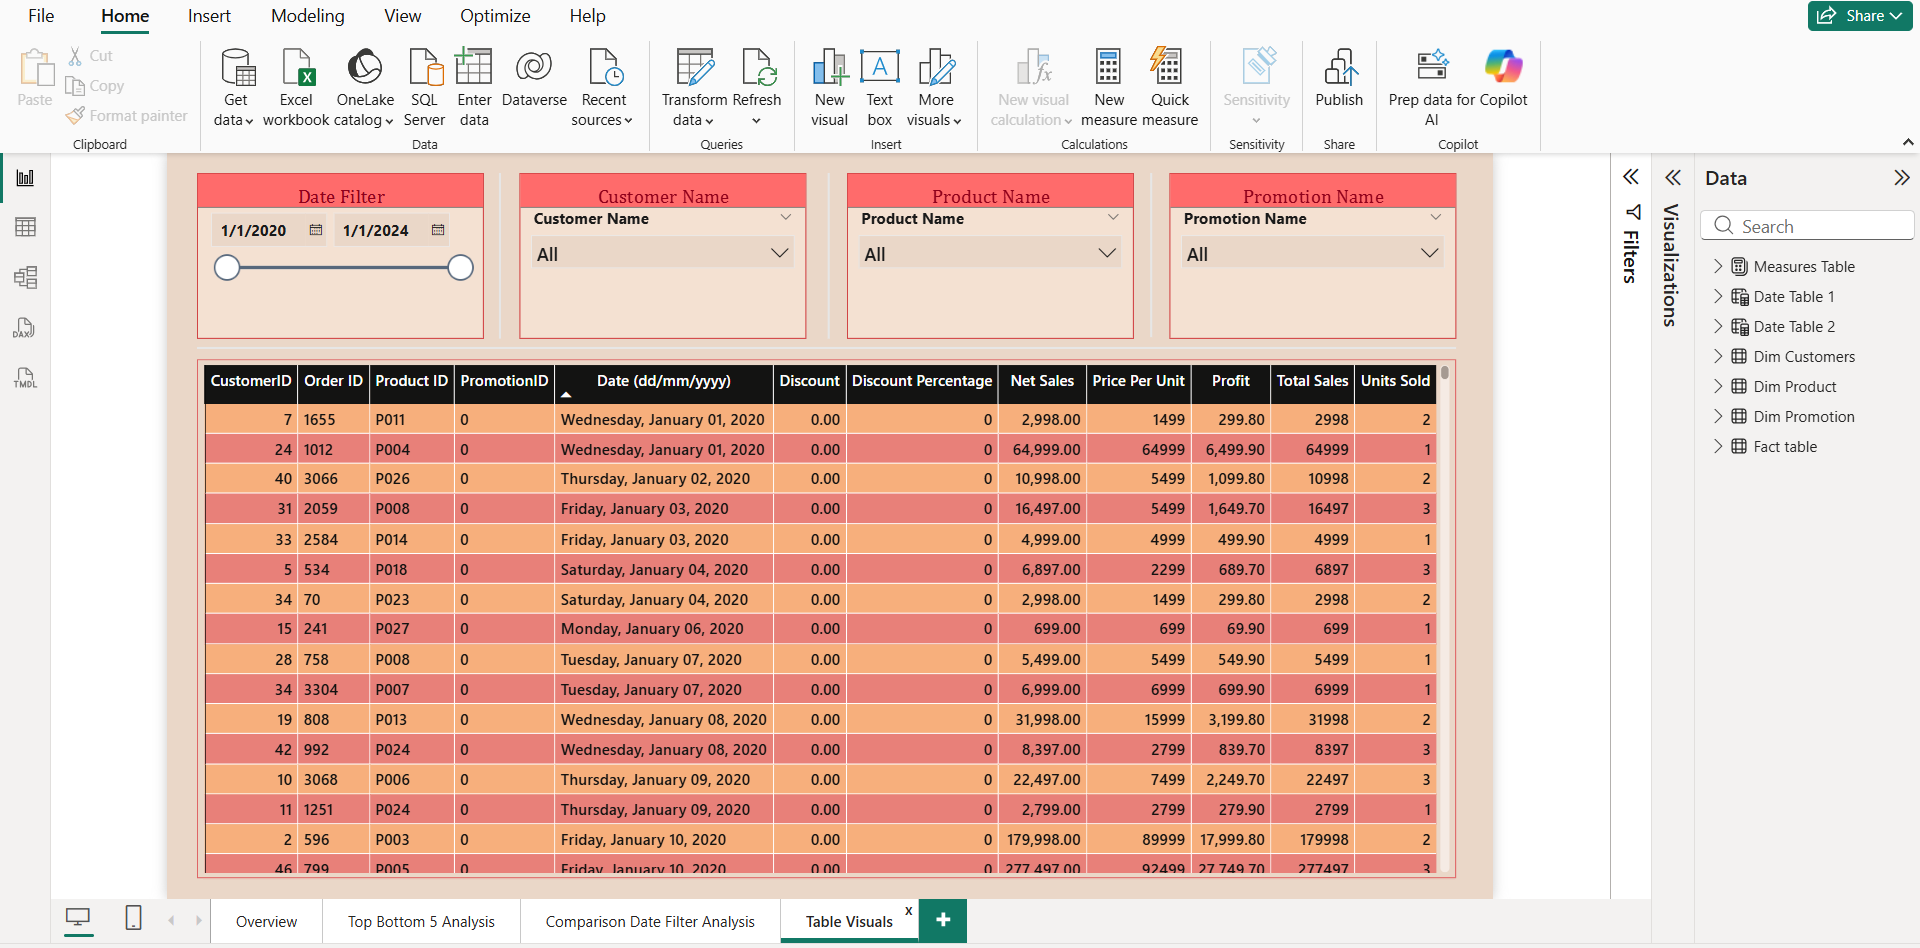

Layout of this report page (visuals, bound fields, positions):
{"tool":"powerbi","page":{"name":"Table Visuals","canvas":[1280,720],"ordinal":3},"visuals":[{"type":"tableEx","fields":{"Values":["Fact table.CustomerID","Fact table.Order ID","Fact table.Product ID","Fact table.PromotionID","Fact table.Date (dd/mm/yyyy)","Fact table.Discount","Fact table.Discount Percentage","Fact table.Net Sales   ","Fact table.Price Per Unit","Fact table.Profit","Fact table.Total Sales  ","Fact table.Units Sold"]},"box":[28.8,198.7,1215.4,501.1],"z":0},{"type":"slicer","title":"Date Filter","fields":{"Values":["Date Table 1.Date"]},"box":[28.8,18.7,276.5,159.8],"z":1000},{"type":"slicer","title":"Customer Name","fields":{"Values":["Dim Customers.Customer Name"]},"box":[339.8,18.7,276.5,159.8],"z":2000},{"type":"slicer","title":"Product Name","fields":{"Values":["Dim Product.Product Name"]},"box":[656.6,18.7,276.5,159.8],"z":3000},{"type":"slicer","title":"Promotion Name","fields":{"Values":["Dim Promotion.Promotion Name"]},"box":[967.7,18.7,276.5,159.8],"z":4000},{"type":"shape","box":[28.8,177.1,1215.4,21.6],"z":5000},{"type":"shape","box":[315.4,18.7,13,159.8],"z":6000},{"type":"shape","box":[632.2,18.7,13,159.8],"z":7000},{"type":"shape","box":[943.2,18.7,13,158.4],"z":8000}]}

Visuals, with their boxes on the page's 1280x720 design canvas (x1, y1, x2, y2). These are canvas units, not pixel positions in the 1920x948 screenshot, which may show the page scaled, cropped or inside an application window:
tableEx - Fact table.CustomerID x Fact table.Order ID: crop(29, 199, 1244, 700)
"Date Filter" slicer: crop(29, 19, 305, 178)
"Customer Name" slicer: crop(340, 19, 616, 178)
"Product Name" slicer: crop(657, 19, 933, 178)
"Promotion Name" slicer: crop(968, 19, 1244, 178)
shape: crop(29, 177, 1244, 199)
shape: crop(315, 19, 328, 178)
shape: crop(632, 19, 645, 178)
shape: crop(943, 19, 956, 177)
